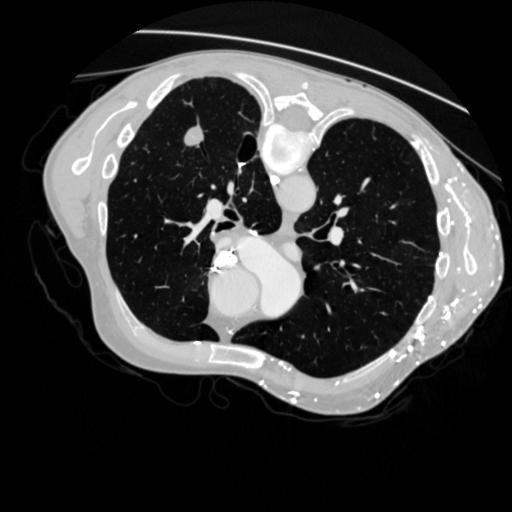nodule: (177, 122, 207, 152)
